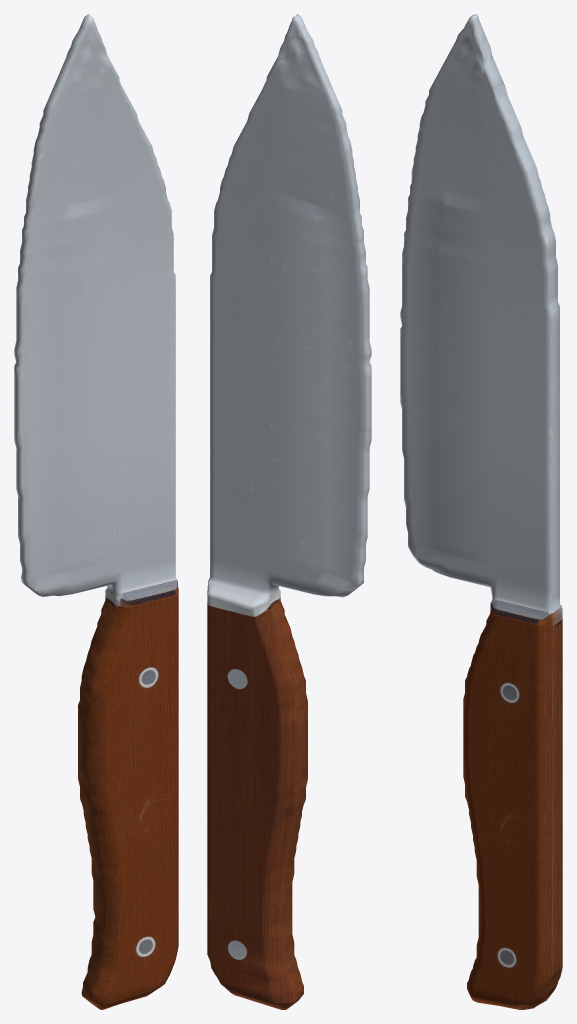
Rendered from knife.fbx.
3 renders of one model, left to right at view 1: azimuth 30°, elevation 25°; view 2: azimuth 150°, elevation 25°; view 3: azimuth 330°, elevation 25°, orthographic.
Visible parts, largest first — view 1: Mesh_0.014; view 2: Mesh_0.014; view 3: Mesh_0.014.
Part boxes in pixels (left/top/right/bottom): Mesh_0.014: left=14, top=14, right=178, bottom=1009; Mesh_0.014: left=207, top=14, right=371, bottom=1009; Mesh_0.014: left=400, top=14, right=562, bottom=1009.
Bounding box in the file's own units: 6.34 × 38.12 × 1.72.
1 material, 1 textured.
